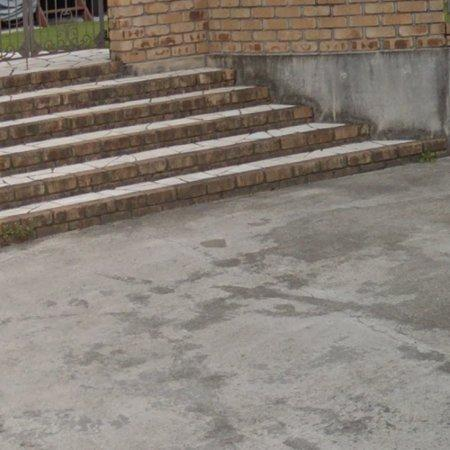stairs: (0, 63, 442, 246)
